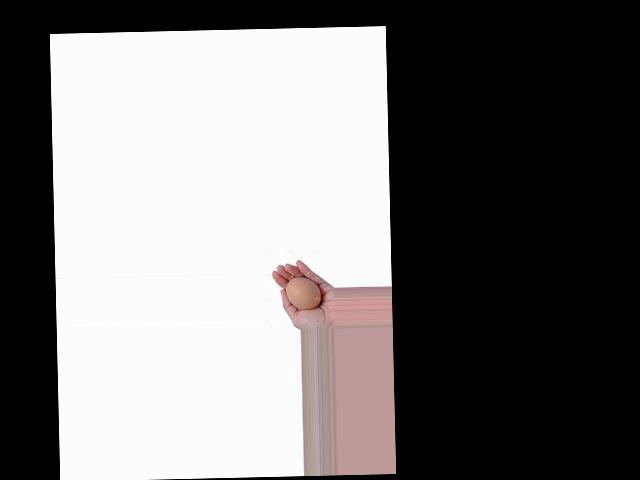egg: (286, 276, 321, 310)
